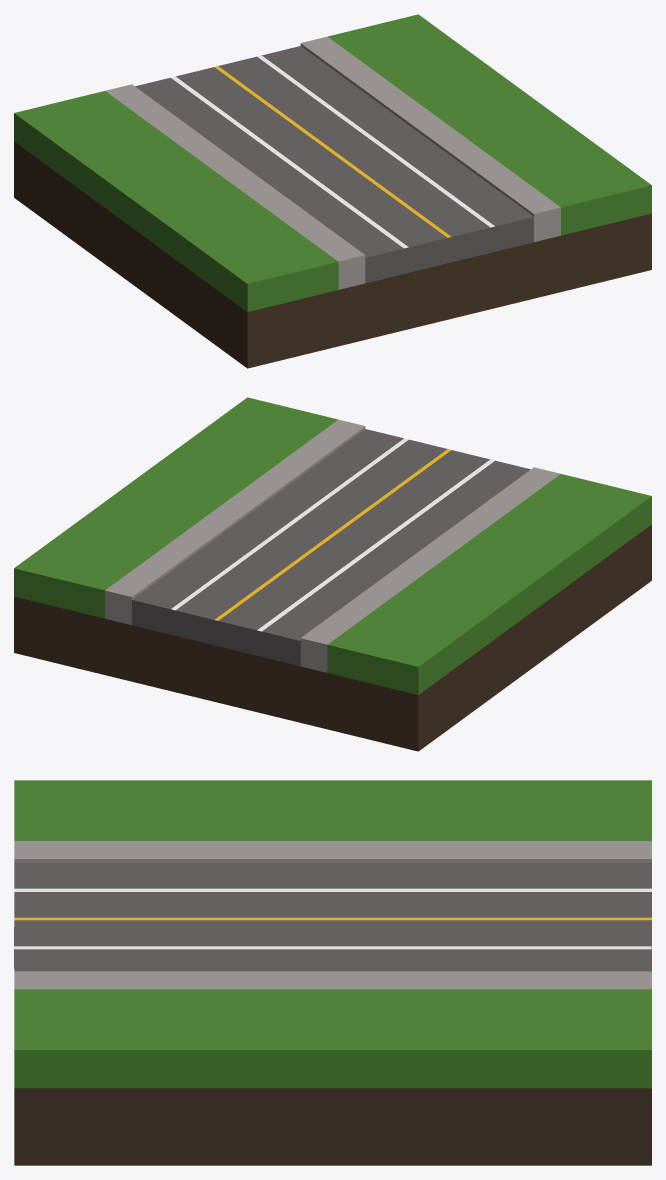
The model's file is road_straight.dae.
The picture shows the model from 3 angles, top to bottom: view 1: azimuth 30°, elevation 25°; view 2: azimuth 150°, elevation 25°; view 3: azimuth 270°, elevation 25°; orthographic projection. The views are drawn at different scales.
Parts seen in each view (by area): view 1: tile-mainroad-straight; view 2: tile-mainroad-straight; view 3: tile-mainroad-straight.
Boxes of the visible parts, x1=… form: tile-mainroad-straight: x1=14, y1=14, x2=651, y2=368; tile-mainroad-straight: x1=14, y1=397, x2=651, y2=751; tile-mainroad-straight: x1=14, y1=780, x2=651, y2=1165.
Bounding box in the file's own units: 30 × 30.01 × 6.
